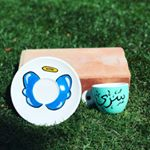cups: (81, 80, 131, 116)
